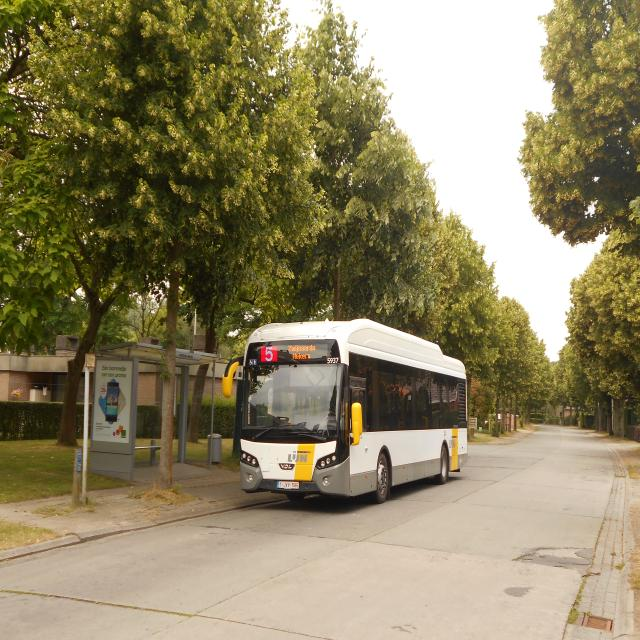bus-number: (260, 346, 278, 362)
